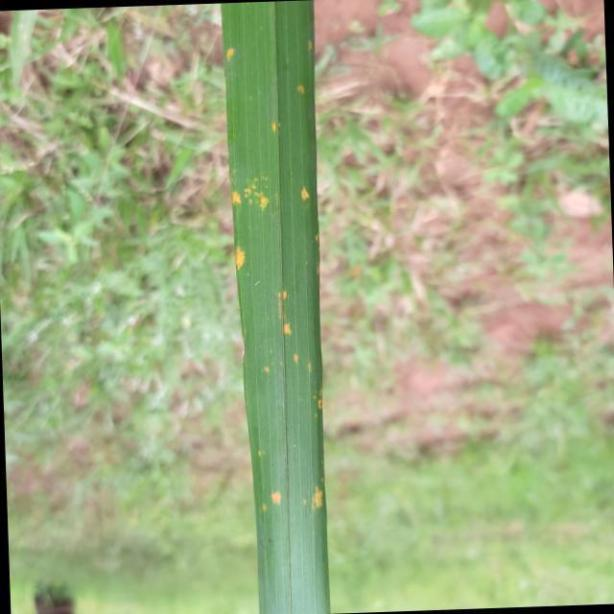Kalium: (219, 3, 331, 614)
